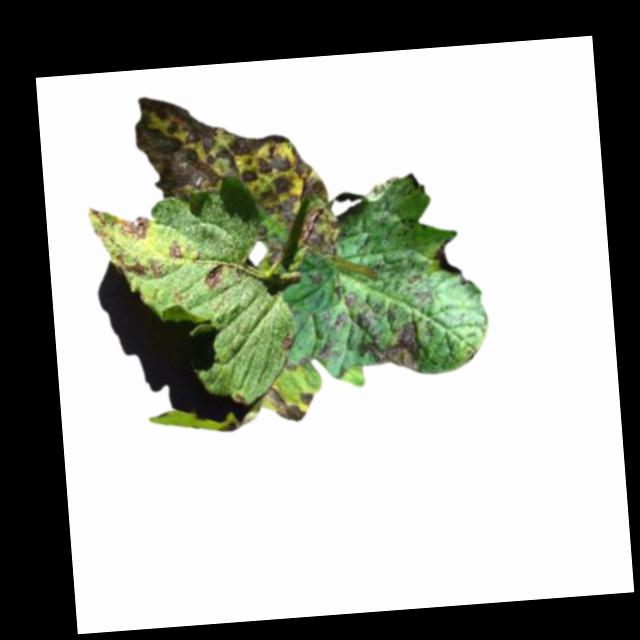Early_blight: (131, 83, 336, 268), (354, 312, 423, 378), (262, 382, 316, 424), (115, 254, 164, 285), (432, 237, 461, 280), (121, 215, 152, 241), (202, 265, 226, 290), (278, 332, 296, 353), (168, 240, 183, 260), (333, 313, 348, 331), (344, 291, 357, 307)
